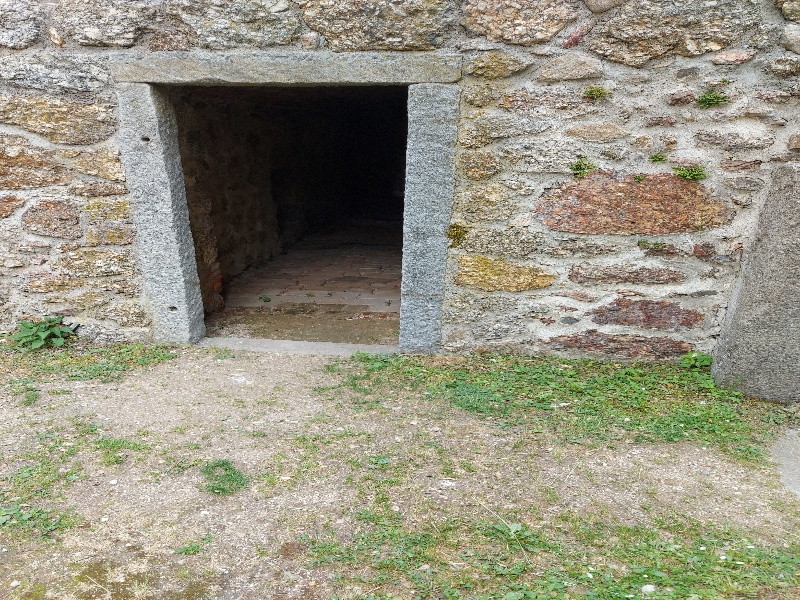door2: (102, 45, 469, 361)
